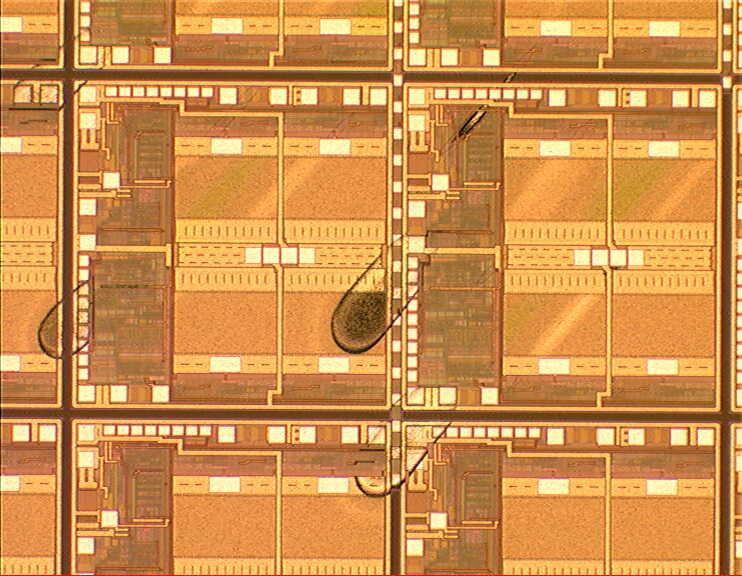COATING BAD: (6, 4, 727, 506)
